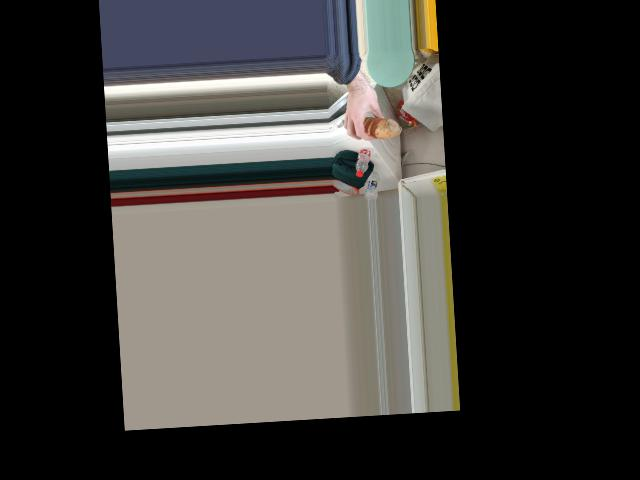sweet_potato: (353, 105, 390, 136)
